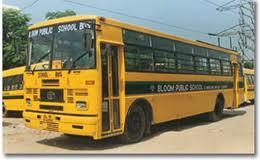Bus: (21, 15, 248, 141)
